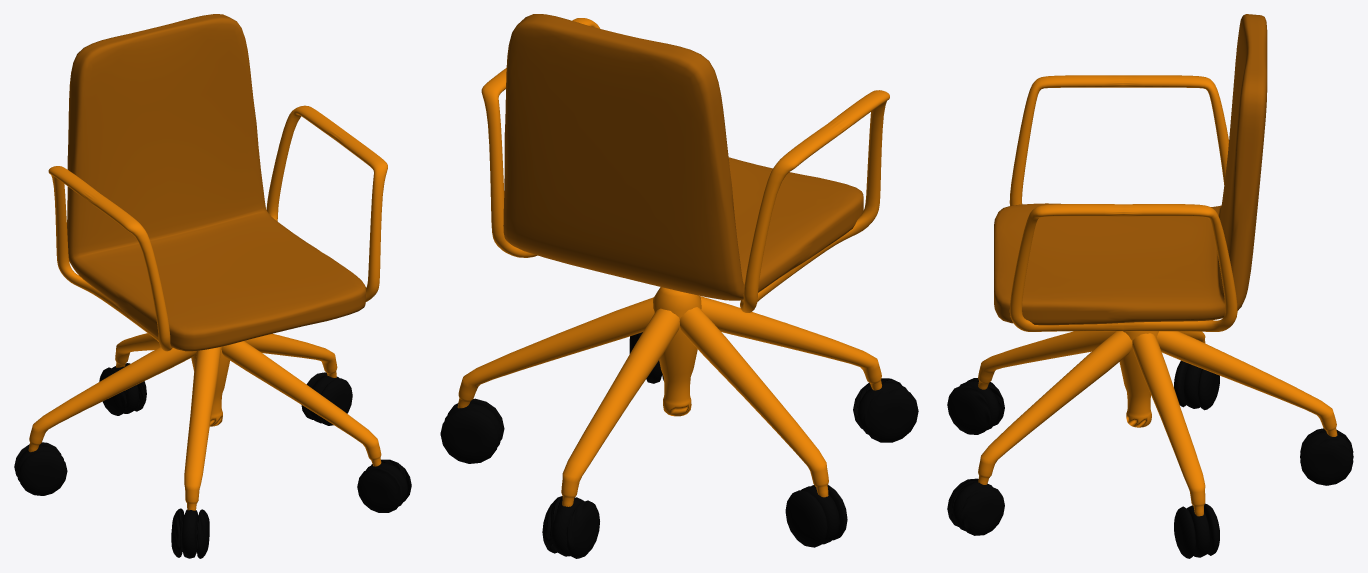
Rendered from SmallChair.fbx.
3 renders of one model, left to right at view 1: azimuth 30°, elevation 25°; view 2: azimuth 150°, elevation 25°; view 3: azimuth 270°, elevation 25°, orthographic. The views are drawn at different scales.
Parts seen in each view (by area): view 1: Small_Chair; view 2: Small_Chair; view 3: Small_Chair.
Boxes of the visible parts, <box> form: Small_Chair: <box>14,14,411,558</box>; Small_Chair: <box>440,14,918,558</box>; Small_Chair: <box>947,14,1353,558</box>.
Size of the model in its own units: 7.18 by 8.41 by 7.13.
